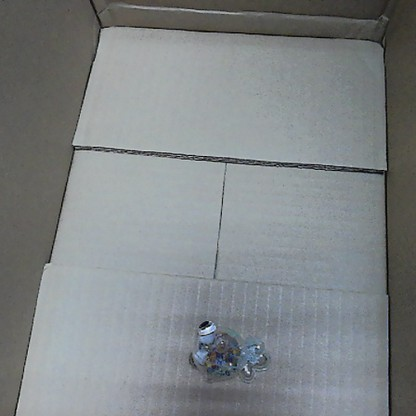whitefish: (188, 314, 271, 386)
